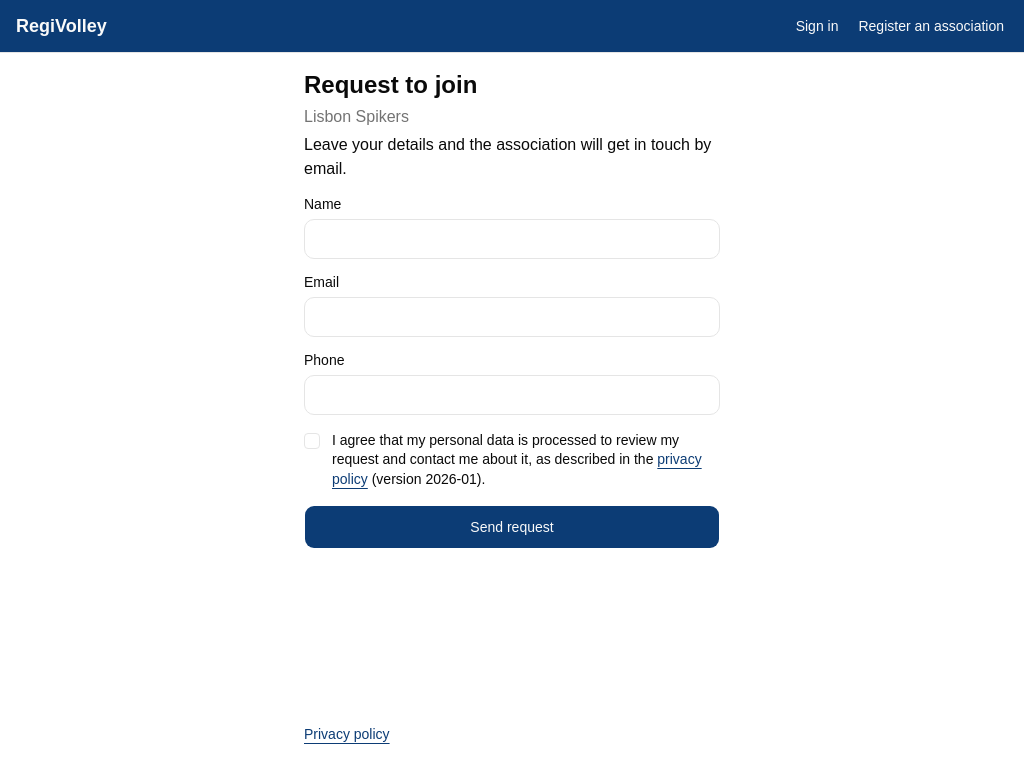
Scenario: join form › shows the API's field errors on the fields
In the field labelled "Name": (512, 239) [304,219,720,259], type "Rita Silva"
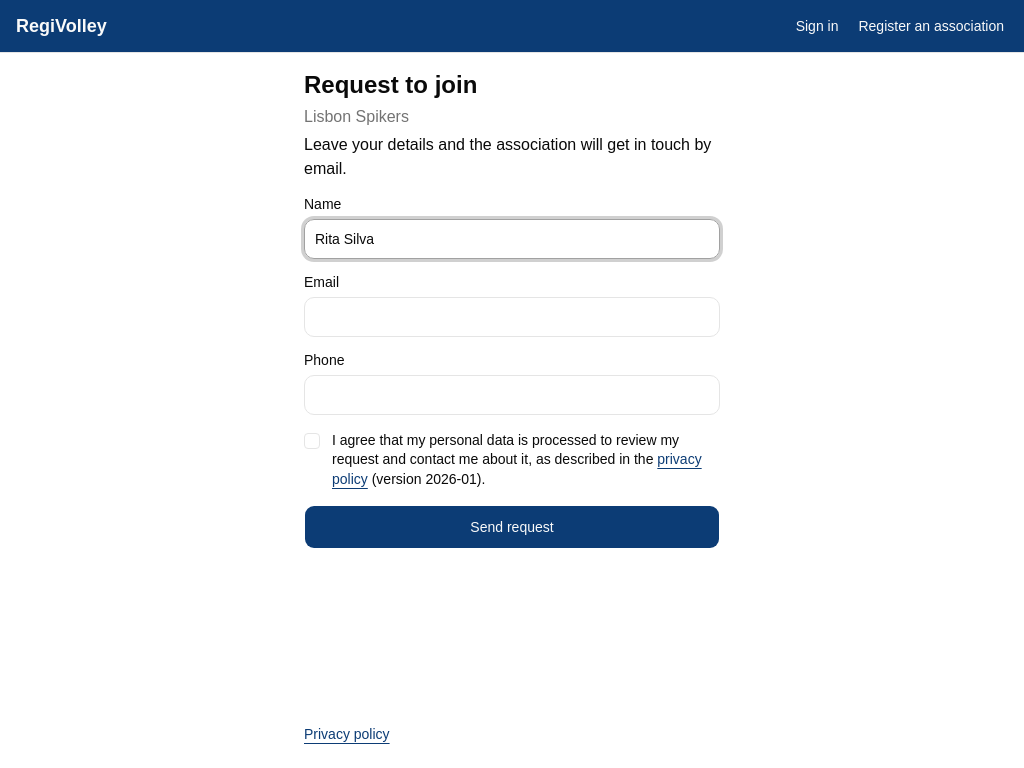
In the field labelled "Email": (512, 317) [304,297,720,337], type "rita@example.com"
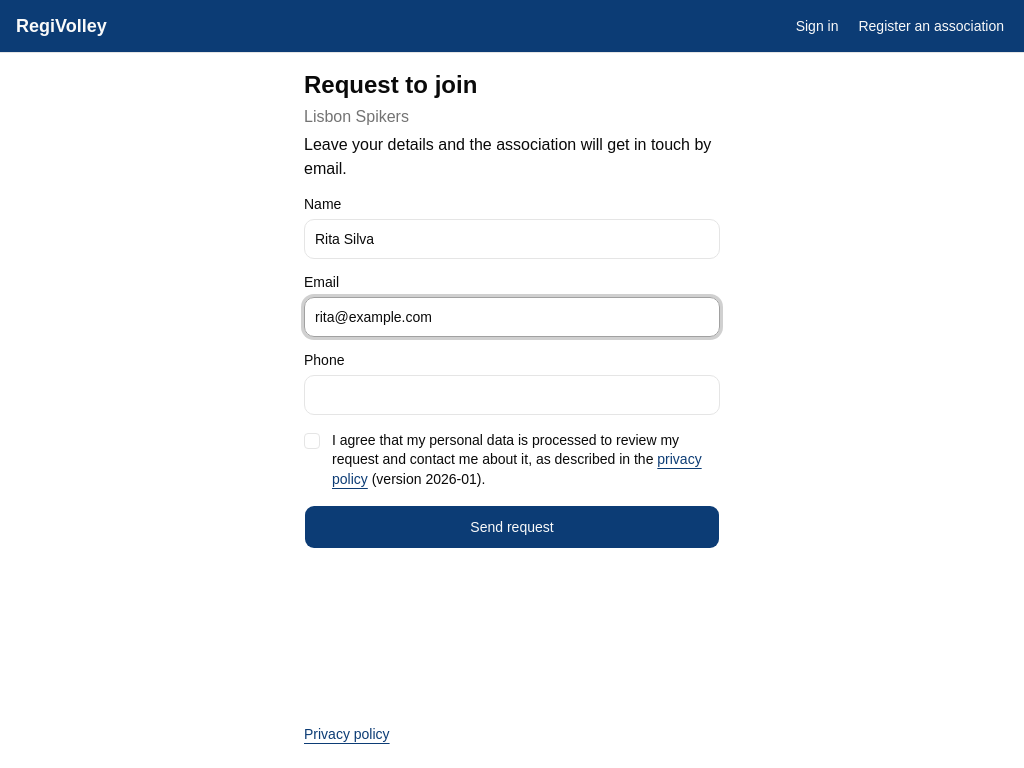
In the field labelled "Phone": (512, 395) [304,375,720,415], type "912345678"
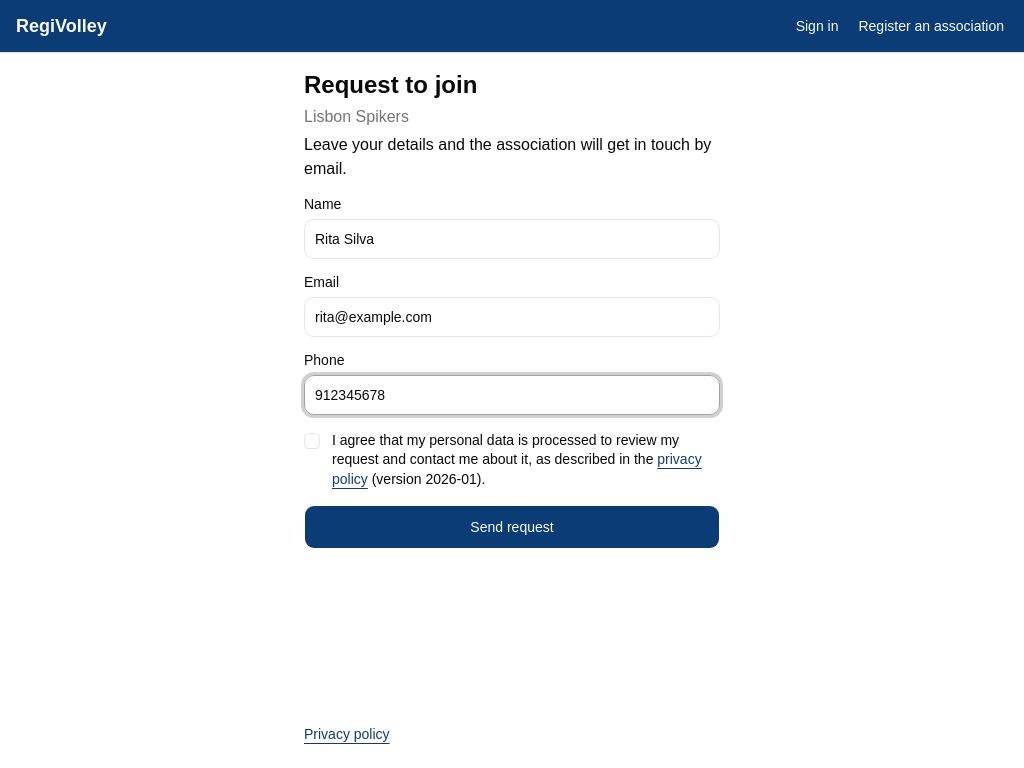
Click the checkbox named "I agree": (312, 441) [304,433,320,449]
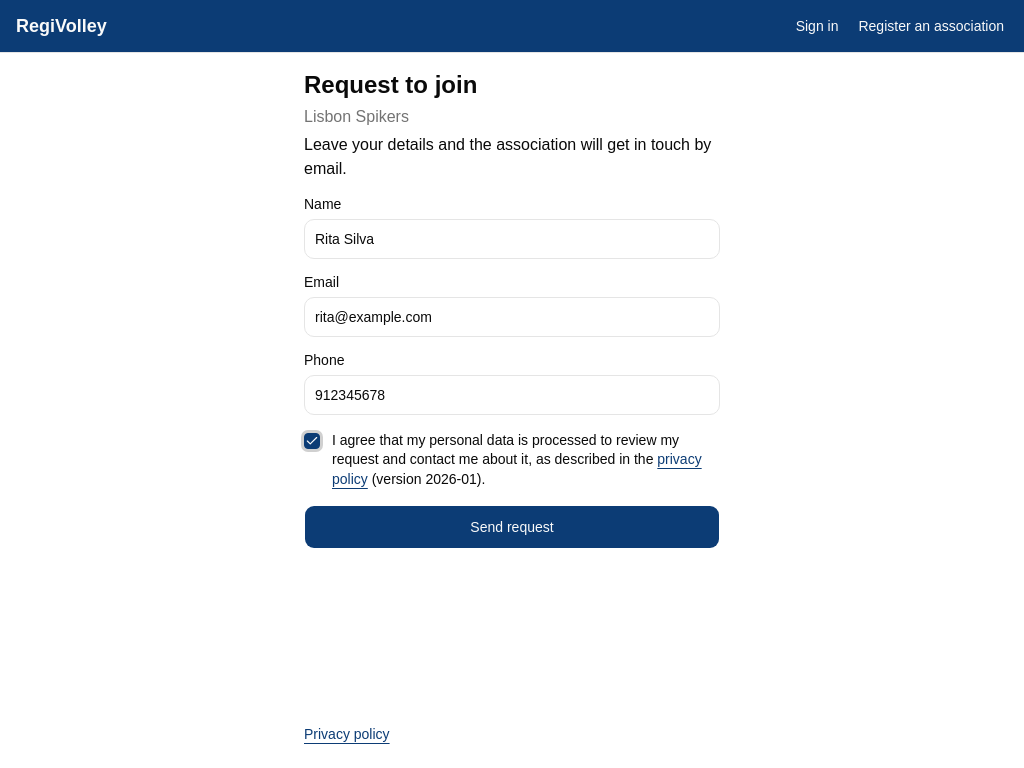
Click the button "Send request": (512, 527) [304,505,720,549]
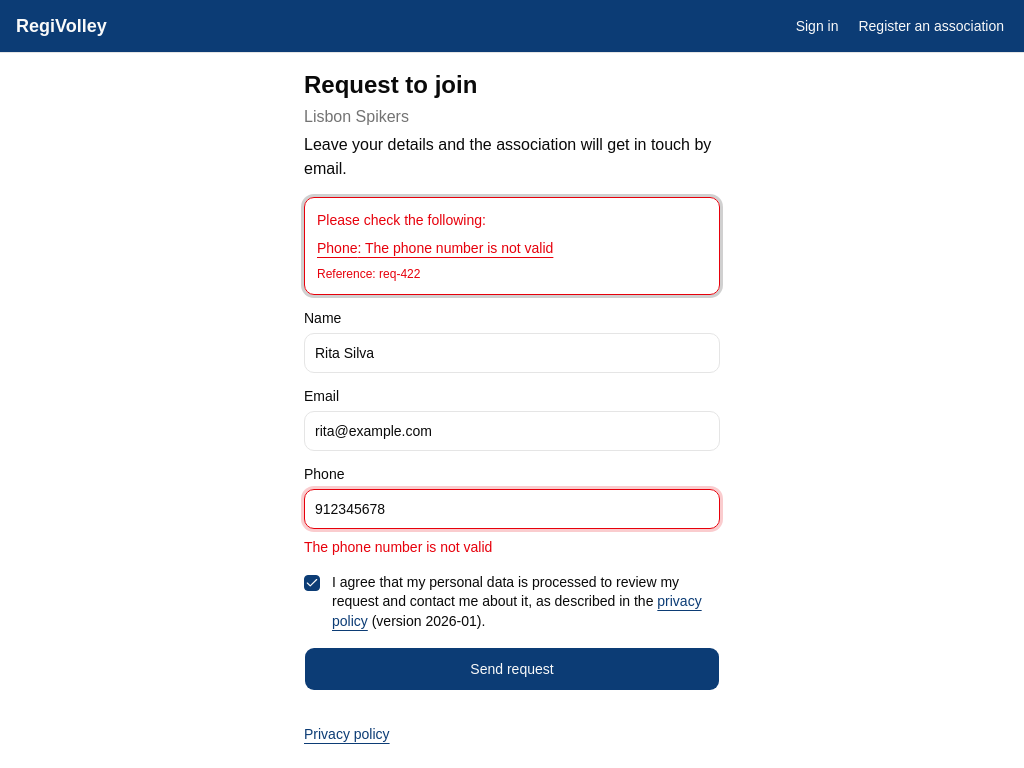
Expected: the message shows "Phone: The phone number is not valid", [304,197,720,295]
